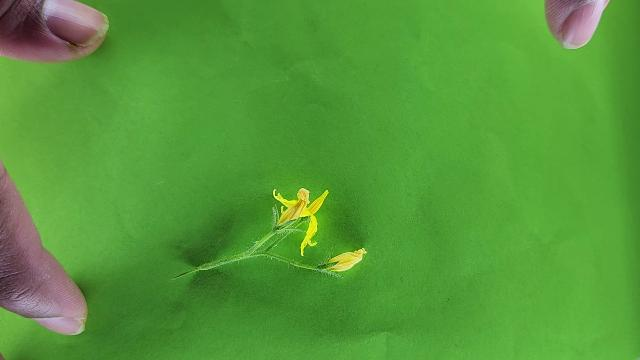Anthesis: (270, 180, 331, 256), (318, 246, 367, 273)
